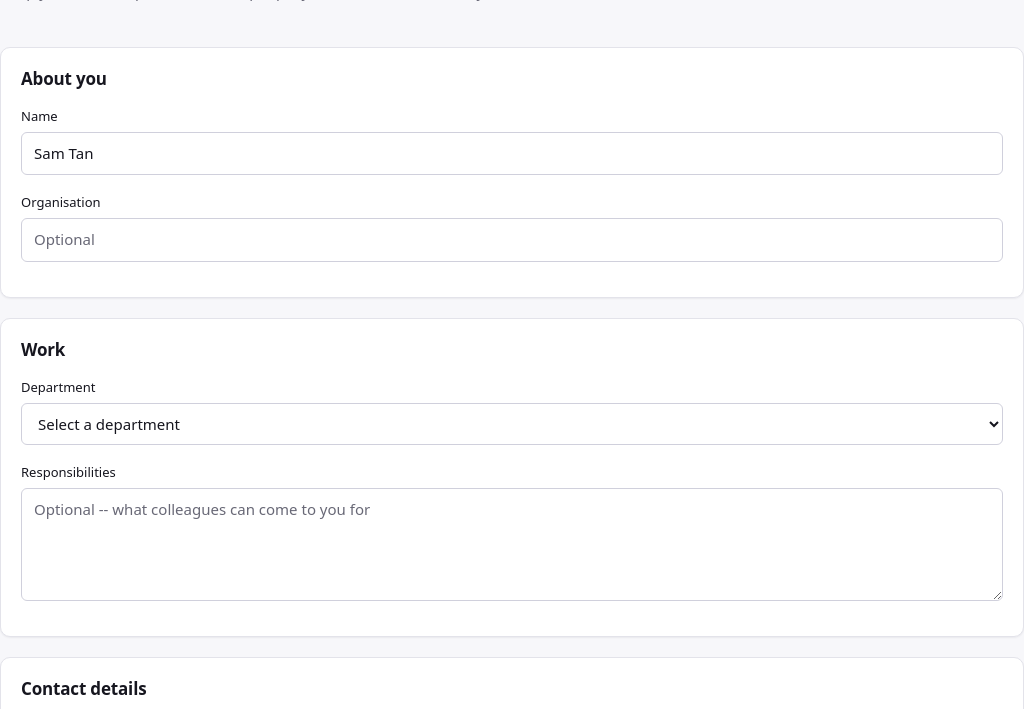
AC2 - the chosen department is saved › sends the department slug on save and confirms
Select "Venue Operations" in the dropdown labelled "Department" at {"x": 512, "y": 424}, box left=21, top=403, right=1003, bottom=445
(page scrolled)
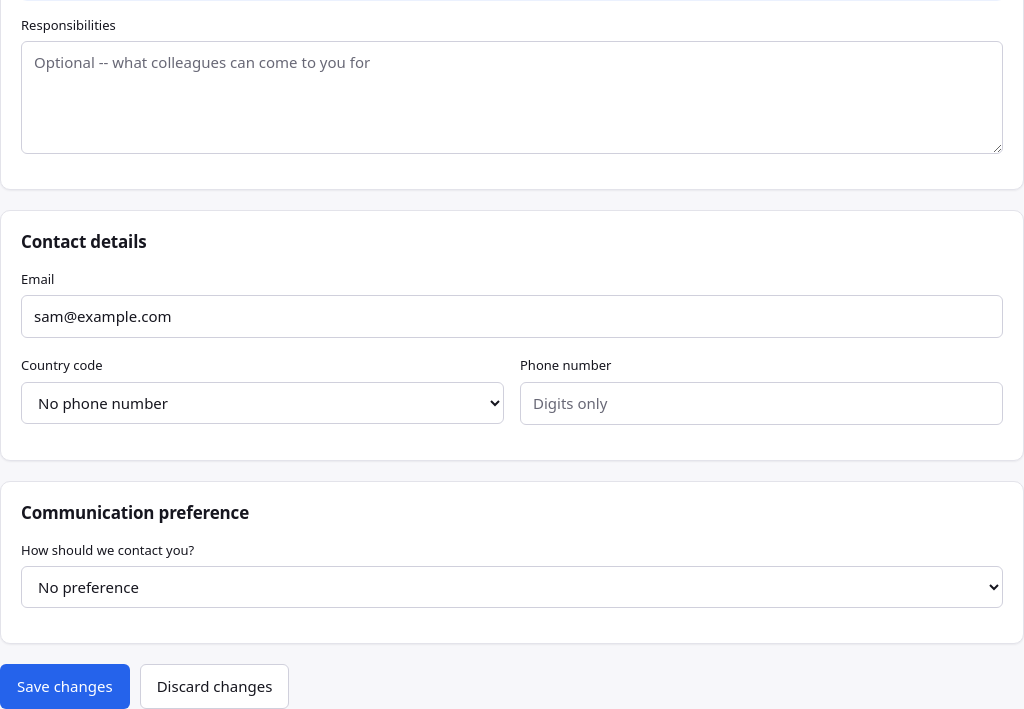
Click the button "Save changes" at {"x": 65, "y": 687}, box left=0, top=664, right=130, bottom=708
(page scrolled)
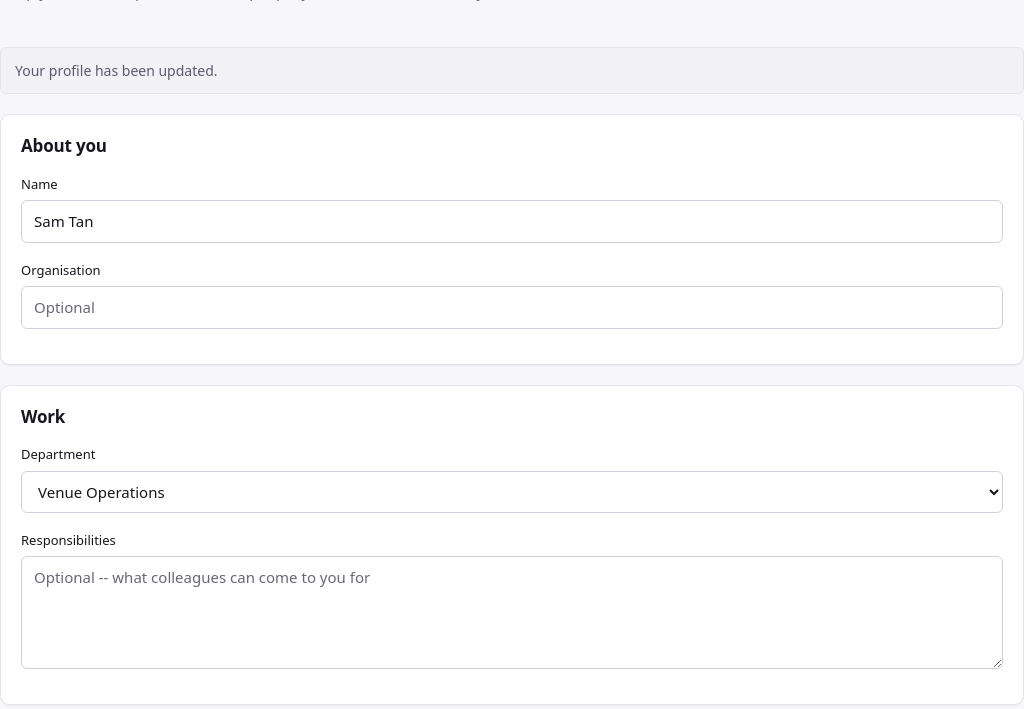
Expected: the text "Your profile has been updated." is shown, left=0, top=47, right=1023, bottom=94
